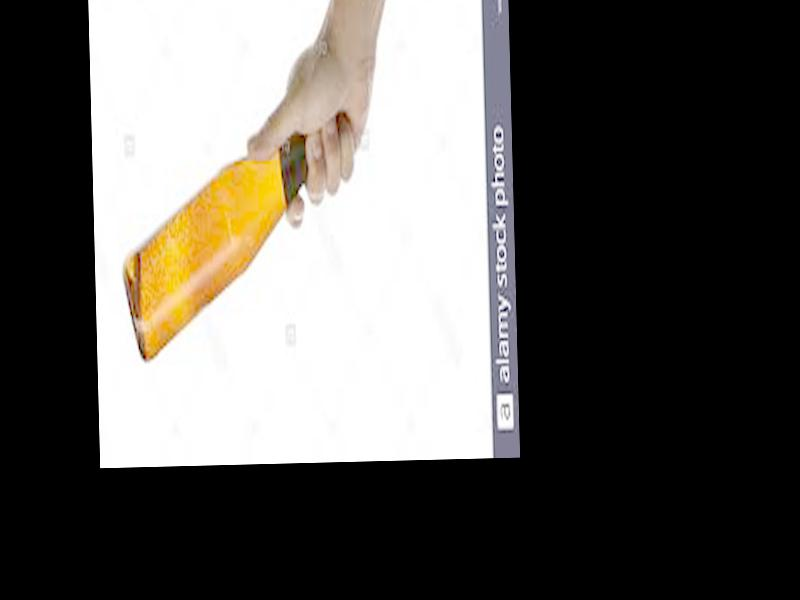Beer: (116, 116, 352, 362)
